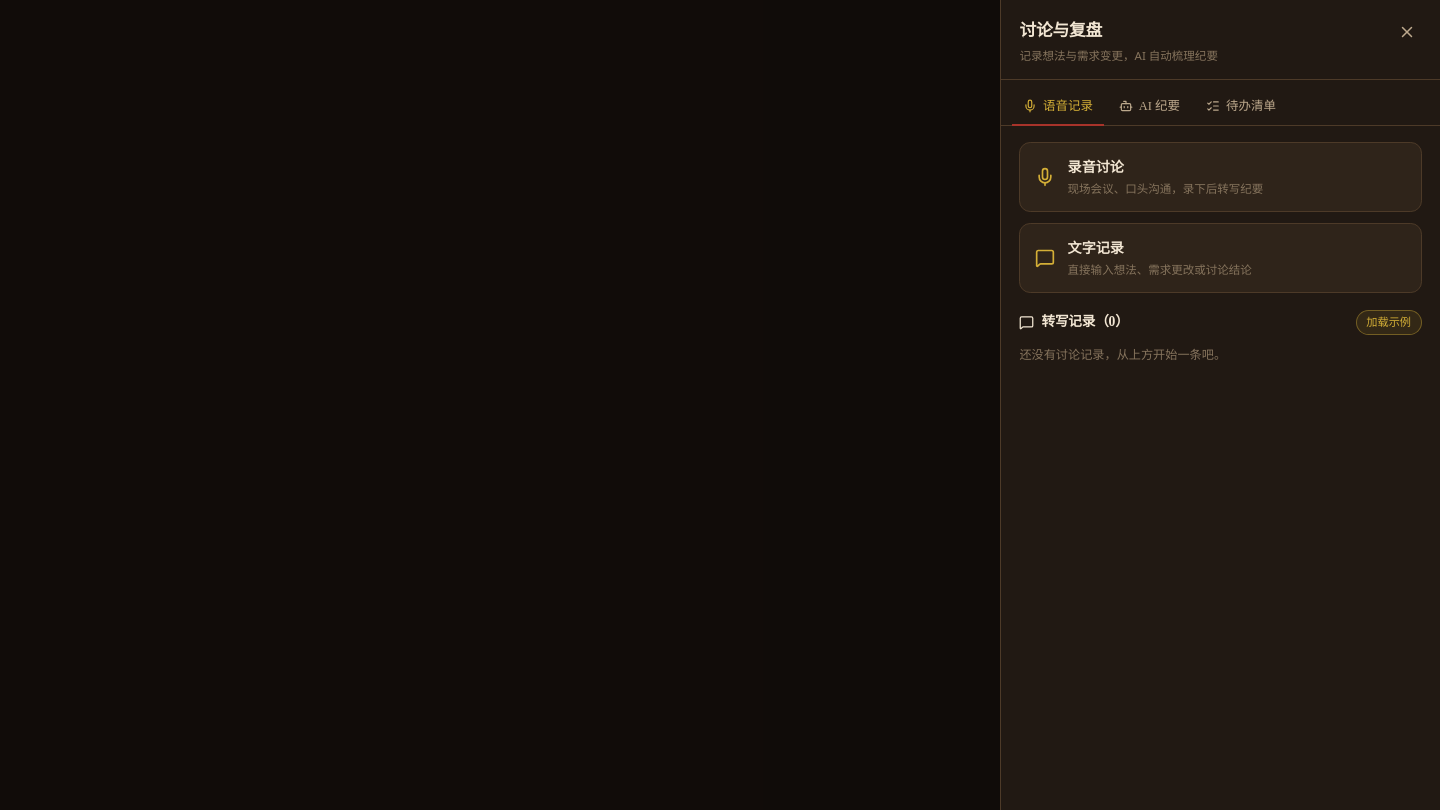
DiscussionPanel 抽屉 › 服务不可达时提交显示友好提示
Click the text "文字记录".
click(1096, 248)  # box [1068, 238, 1124, 258]
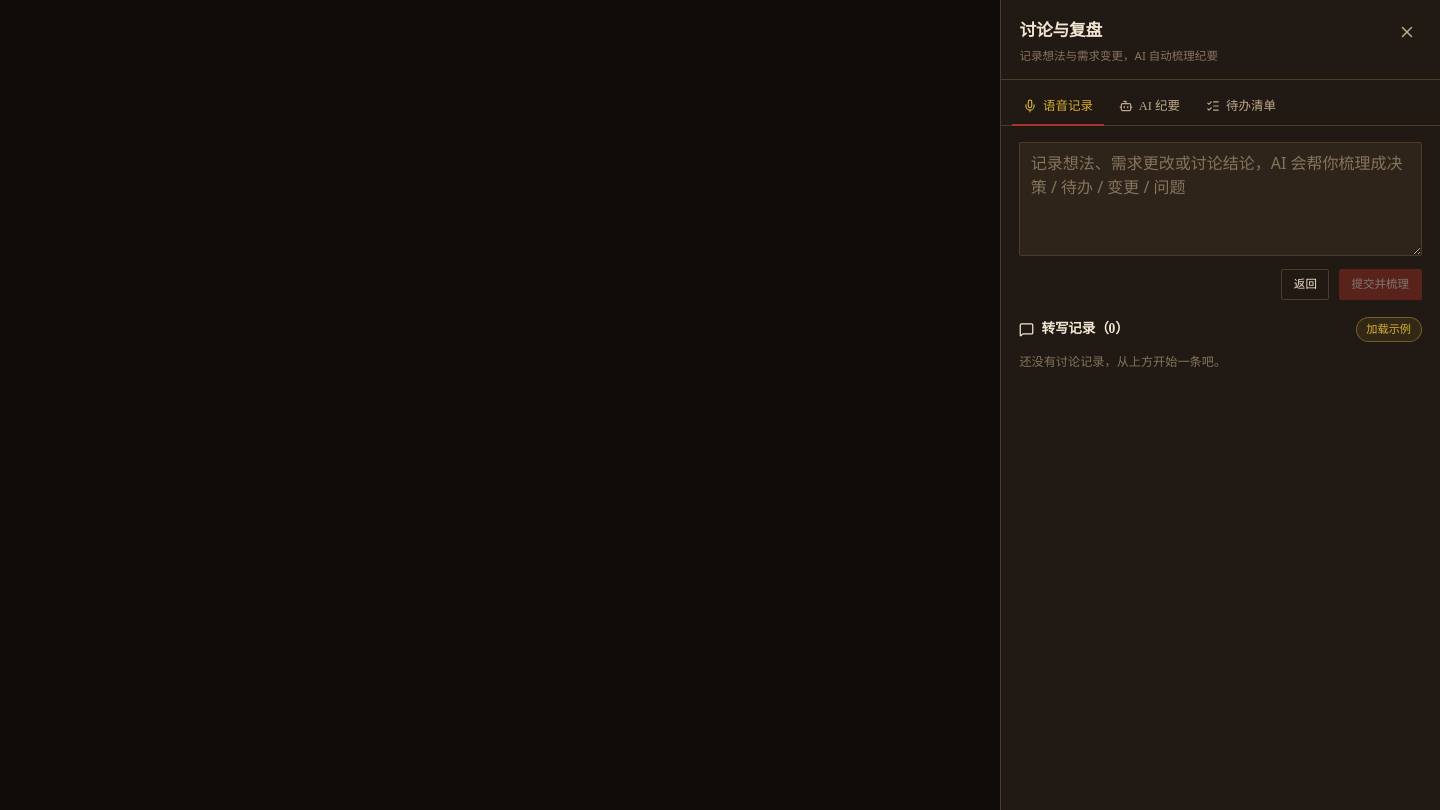
Type "x" into the text box with placeholder "记录想法、需求更改或讨论结论，AI 会帮你梳理成决策 / 待办 / 变更 / 问题".
click(1220, 199); type("x")  # box [1019, 142, 1422, 256]
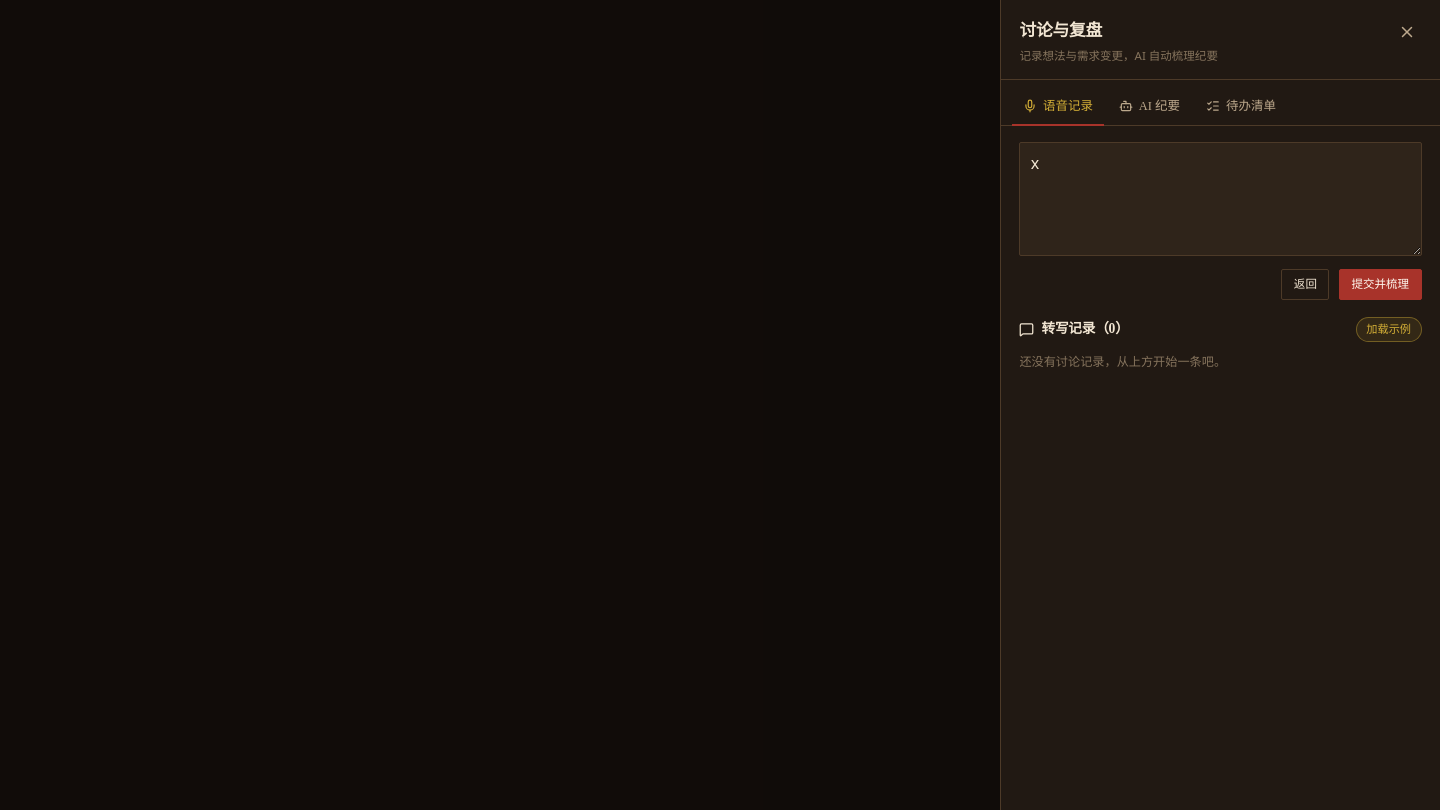
Click the button "提交并梳理".
click(1380, 284)  # box [1339, 268, 1422, 300]
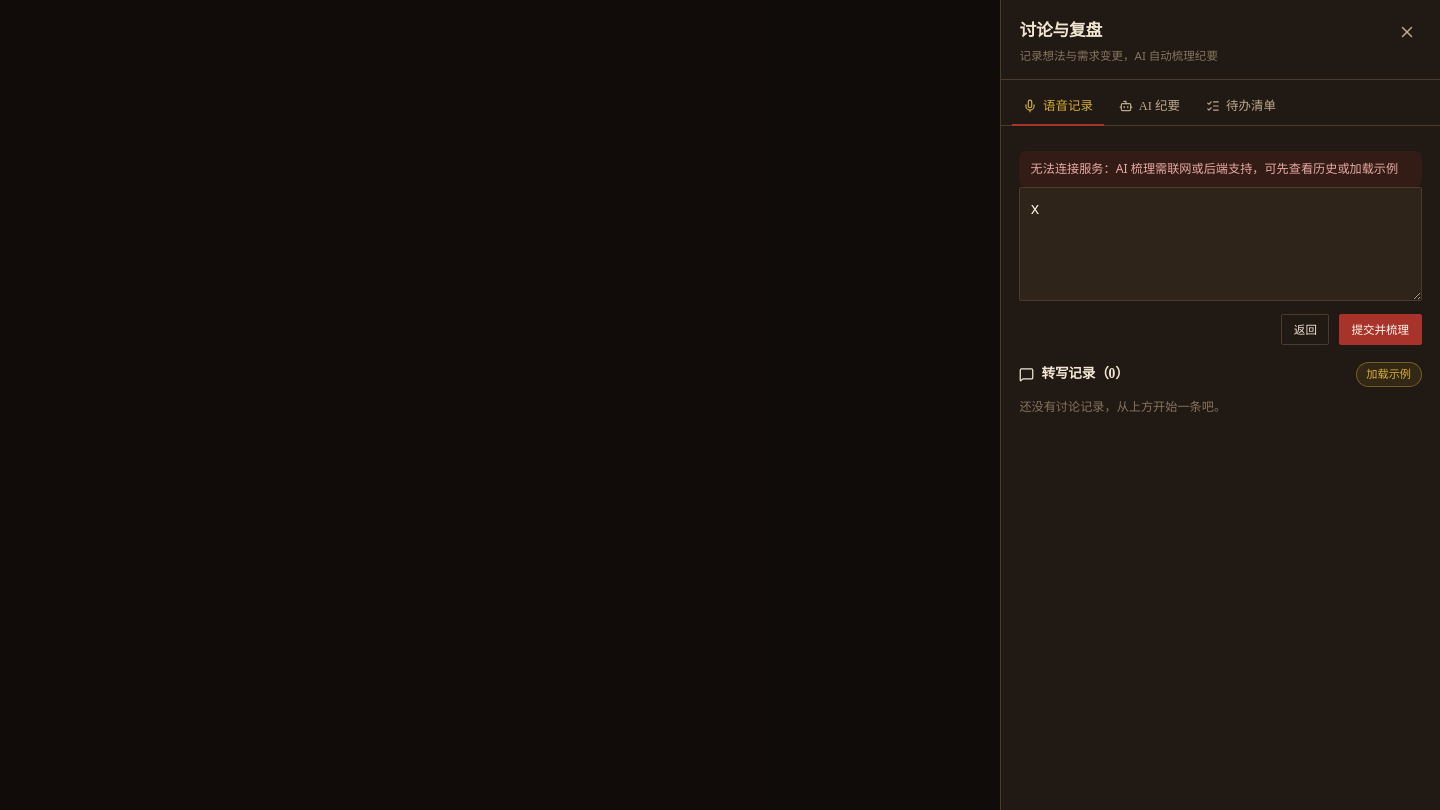
Result: the text "无法连接服务：AI 梳理需联网或后端支持，可先查看历史或加载示例" is shown at [1019, 151, 1422, 187]
